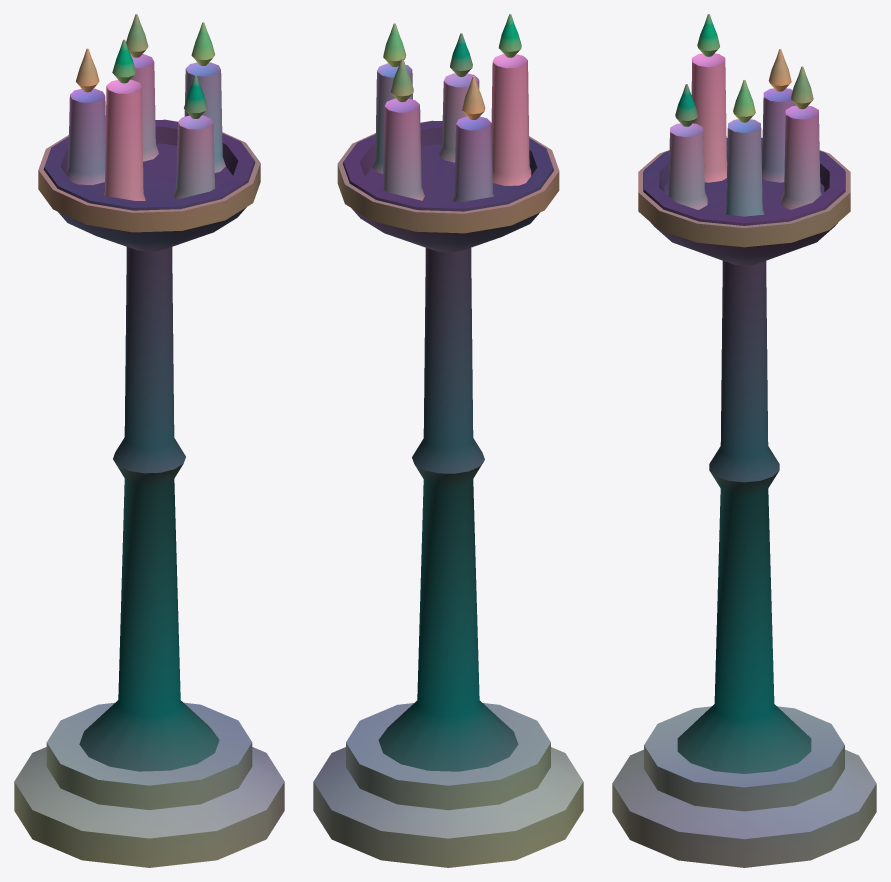
File: votive_stand_lit.glb
3 views of the same model, side by side, from view 1: azimuth 30°, elevation 25°; view 2: azimuth 150°, elevation 25°; view 3: azimuth 270°, elevation 25° (orthographic). The views are drawn at different scales.
Parts seen in each view (by area): view 1: votive_col, votive_socle, votive_gilt, cand3, cand2, cand4, cand0, cand1, votive_flame2, votive_flame4, votive_flame3, votive_flame0 (+1 smaller); view 2: votive_col, votive_socle, votive_gilt, cand3, cand1, cand2, cand4, cand0, votive_flame3, votive_flame1, votive_flame4, votive_flame2 (+1 smaller); view 3: votive_col, votive_socle, votive_gilt, cand3, cand1, cand0, cand4, cand2, votive_flame2, votive_flame0, votive_flame3, votive_flame1 (+1 smaller).
Part boxes in pixels (bbox=[...]): votive_col: bbox=[43, 119, 255, 771]; votive_socle: bbox=[14, 702, 284, 867]; votive_gilt: bbox=[38, 119, 260, 232]; cand3: bbox=[103, 79, 145, 200]; cand2: bbox=[66, 88, 105, 184]; cand4: bbox=[173, 115, 215, 199]; cand0: bbox=[184, 62, 225, 172]; cand1: bbox=[130, 54, 158, 161]; votive_flame2: bbox=[76, 48, 99, 92]; votive_flame4: bbox=[184, 75, 207, 118]; votive_flame3: bbox=[112, 39, 135, 83]; votive_flame0: bbox=[191, 22, 215, 65]; votive_col: bbox=[343, 121, 553, 771]; votive_socle: bbox=[313, 703, 583, 867]; votive_gilt: bbox=[337, 120, 559, 233]; cand3: bbox=[491, 54, 531, 185]; cand1: bbox=[383, 98, 424, 200]; cand2: bbox=[452, 116, 494, 201]; cand4: bbox=[439, 73, 479, 162]; cand0: bbox=[372, 63, 412, 173]; votive_flame3: bbox=[498, 14, 521, 57]; votive_flame1: bbox=[391, 58, 413, 102]; votive_flame4: bbox=[450, 33, 472, 76]; votive_flame2: bbox=[462, 76, 485, 119]; votive_col: bbox=[643, 138, 845, 773]; votive_socle: bbox=[612, 706, 876, 867]; votive_gilt: bbox=[638, 150, 850, 247]; cand3: bbox=[691, 53, 727, 182]; cand1: bbox=[781, 105, 821, 209]; cand0: bbox=[724, 119, 764, 216]; cand4: bbox=[667, 123, 707, 209]; cand2: bbox=[761, 88, 795, 182]; votive_flame2: bbox=[768, 49, 791, 91]; votive_flame0: bbox=[733, 80, 755, 122]; votive_flame3: bbox=[697, 14, 719, 56]; votive_flame1: bbox=[791, 66, 813, 109].
Size of the model in its own units: 0.5 by 1.62 by 0.5.
